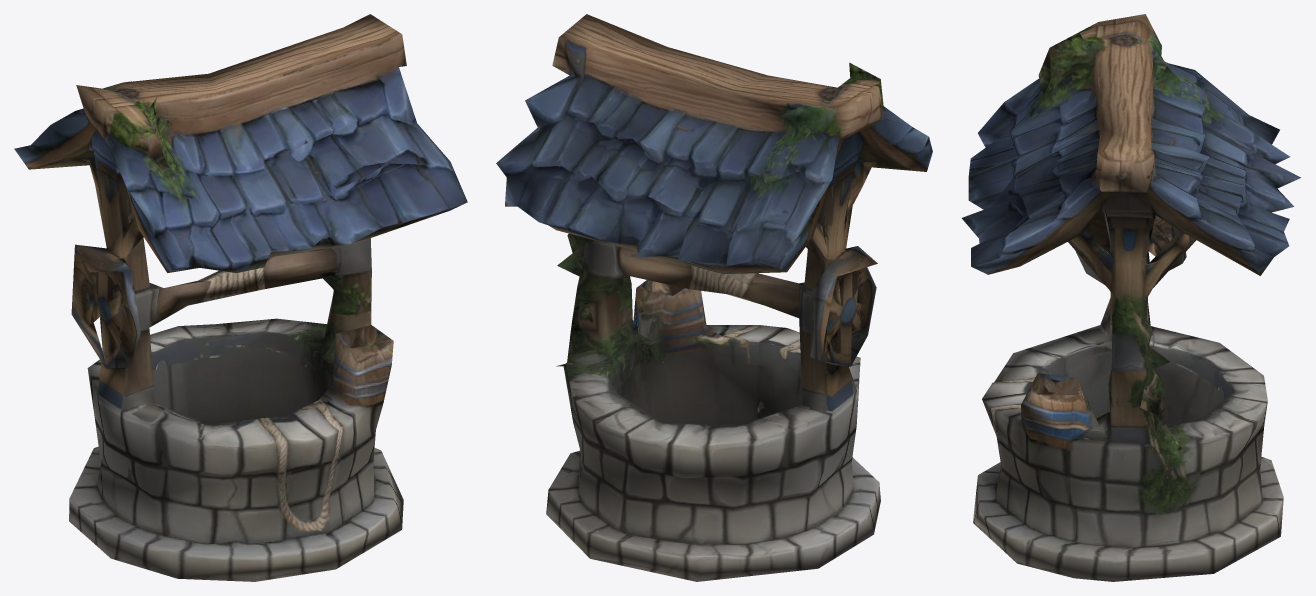
File: wishing-well.glb
The picture shows the model from 3 angles, left to right: view 1: azimuth 30°, elevation 25°; view 2: azimuth 150°, elevation 25°; view 3: azimuth 270°, elevation 25°; orthographic projection. The views are drawn at different scales.
Parts seen in each view (by area): view 1: Mesh1.0; view 2: Mesh1.0; view 3: Mesh1.0.
Boxes of the visible parts, x1=… form: Mesh1.0: x1=14, y1=14, x2=467, y2=581; Mesh1.0: x1=496, y1=14, x2=932, y2=581; Mesh1.0: x1=962, y1=14, x2=1300, y2=581.
Bounding box in the file's own units: 1.39 × 1.96 × 1.39.
1 material, 1 textured.
